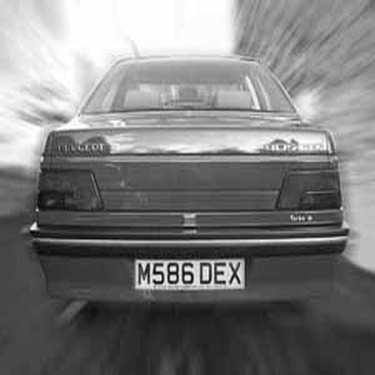car: (5, 36, 346, 313)
